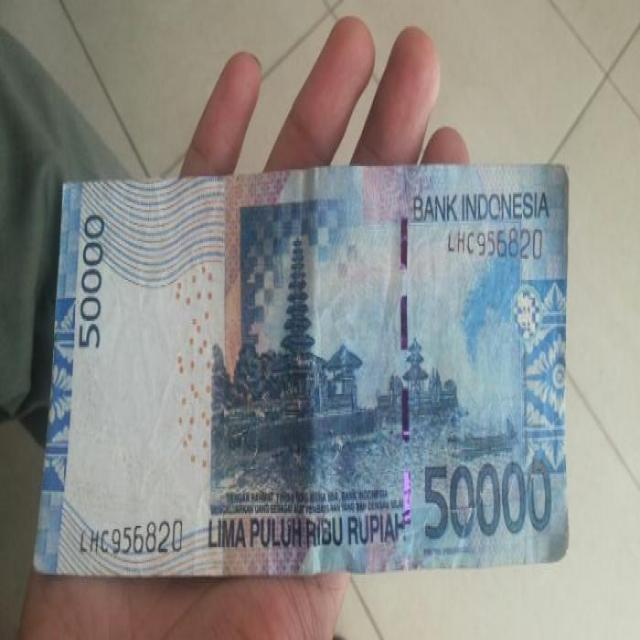lima puluh ribu rupiah: (51, 171, 570, 557)
